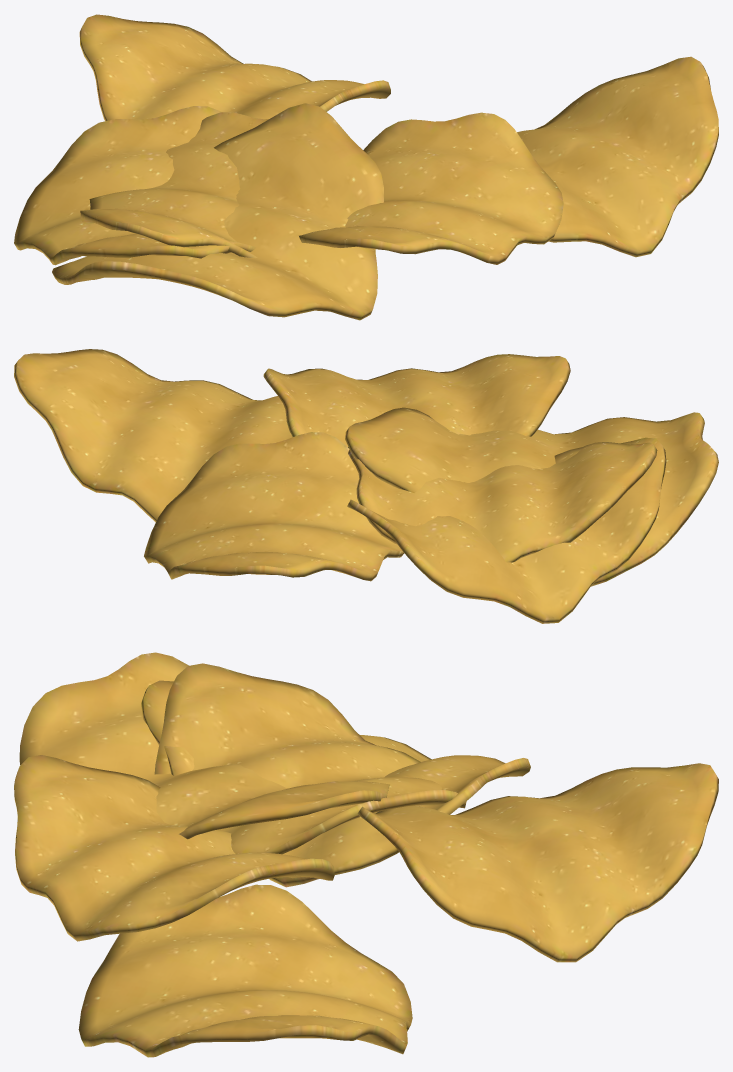
File: crunch_chips.glb
The picture shows the model from 3 angles, top to bottom: view 1: azimuth 30°, elevation 25°; view 2: azimuth 150°, elevation 25°; view 3: azimuth 270°, elevation 25°; orthographic projection. The views are drawn at different scales.
Parts seen in each view (by area): view 1: EX_crunch_chips_joined; view 2: EX_crunch_chips_joined; view 3: EX_crunch_chips_joined.
Boxes of the visible parts, <box> form: EX_crunch_chips_joined: <box>14,14,718,320</box>; EX_crunch_chips_joined: <box>14,349,718,623</box>; EX_crunch_chips_joined: <box>14,652,718,1057</box>.
Size of the model in its own units: 0.0813 by 0.0148 by 0.0652.
1 material, 1 textured.
